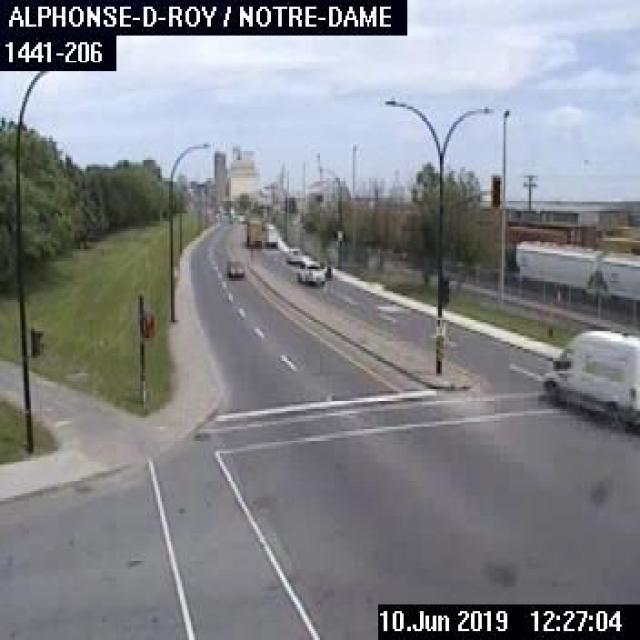vehicle: (540, 325, 638, 431), (242, 211, 262, 251), (296, 257, 326, 283), (260, 222, 278, 250), (223, 260, 246, 278), (282, 243, 300, 263)
